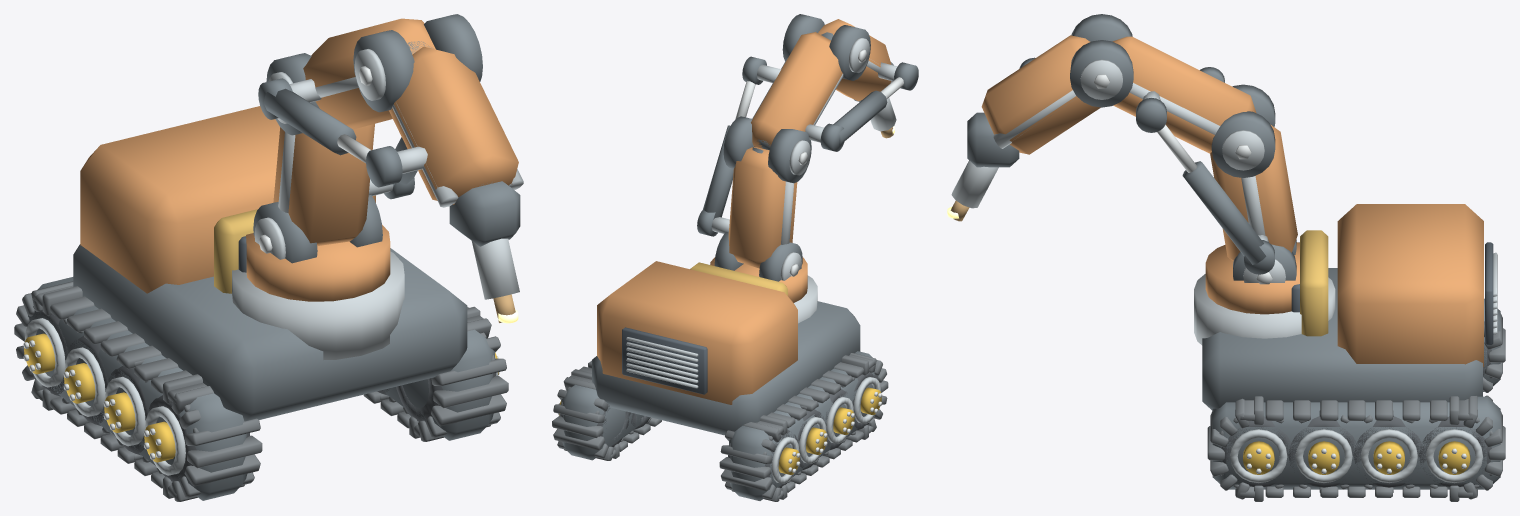
Rendered from forge_standard.glb.
3 renders of one model, left to right at view 1: azimuth 30°, elevation 25°; view 2: azimuth 150°, elevation 25°; view 3: azimuth 270°, elevation 25°, orthographic. The views are drawn at different scales.
Parts seen in each view (by area): view 1: Frame_frame, PowerPack_orange, LeftTrack_tread, ArmLink2_orange, SlewBearing_steel, ArmLink0_orange, Turret_orange, LeftTrack_frame, RightTrack_tread, ArmLink1_orange, ArmJoint2_frame, LeftTrack_steel (+17 smaller); view 2: PowerPack_orange, Frame_frame, LeftTrack_tread, ArmLink1_orange, ArmLink0_orange, LeftTrack_frame, RightTrack_tread, RearCooling_black, RightTrack_frame, ArmJoint1_frame, Hydraulics_frame, LeftTrack_steel (+17 smaller); view 3: PowerPack_orange, Frame_frame, RightTrack_frame, RightTrack_tread, ArmLink2_orange, ArmLink1_orange, RightTrack_steel, ArmLink0_orange, SlewBearing_steel, Turret_orange, ArmJoint2_frame, RightTrack_paint (+17 smaller).
Part boxes in pixels (x1,y1,x2,y2): Frame_frame: [73, 244, 467, 421]; PowerPack_orange: [80, 106, 375, 293]; LeftTrack_tread: [14, 281, 262, 501]; ArmLink2_orange: [389, 46, 518, 204]; SlewBearing_steel: [232, 251, 404, 360]; ArmLink0_orange: [273, 124, 374, 245]; Turret_orange: [246, 224, 390, 301]; LeftTrack_frame: [28, 277, 247, 500]; RightTrack_tread: [363, 306, 508, 441]; ArmLink1_orange: [303, 18, 435, 129]; ArmJoint2_frame: [353, 14, 482, 112]; LeftTrack_steel: [24, 318, 185, 475]; PowerPack_orange: [597, 261, 797, 404]; Frame_frame: [592, 301, 860, 435]; LeftTrack_tread: [719, 353, 888, 501]; ArmLink1_orange: [751, 32, 842, 148]; ArmLink0_orange: [728, 146, 797, 268]; LeftTrack_frame: [729, 351, 878, 500]; RightTrack_tread: [552, 360, 661, 460]; RearCooling_black: [622, 327, 707, 394]; RightTrack_frame: [561, 384, 650, 460]; ArmJoint1_frame: [723, 116, 811, 183]; Hydraulics_frame: [703, 90, 887, 219]; LeftTrack_steel: [771, 377, 881, 483]; PowerPack_orange: [1337, 204, 1483, 366]; Frame_frame: [1202, 268, 1482, 410]; RightTrack_frame: [1212, 396, 1500, 489]; RightTrack_tread: [1207, 395, 1505, 501]; ArmLink2_orange: [981, 35, 1100, 154]; ArmLink1_orange: [1112, 36, 1256, 153]; RightTrack_steel: [1230, 429, 1482, 483]; ArmLink0_orange: [1210, 124, 1297, 261]; SlewBearing_steel: [1194, 274, 1335, 345]; Turret_orange: [1205, 242, 1299, 314]; ArmJoint2_frame: [1070, 14, 1133, 107]; RightTrack_paint: [1243, 441, 1470, 474].
Bounding box in the file's own units: 1.36 × 1.91 × 2.37.
